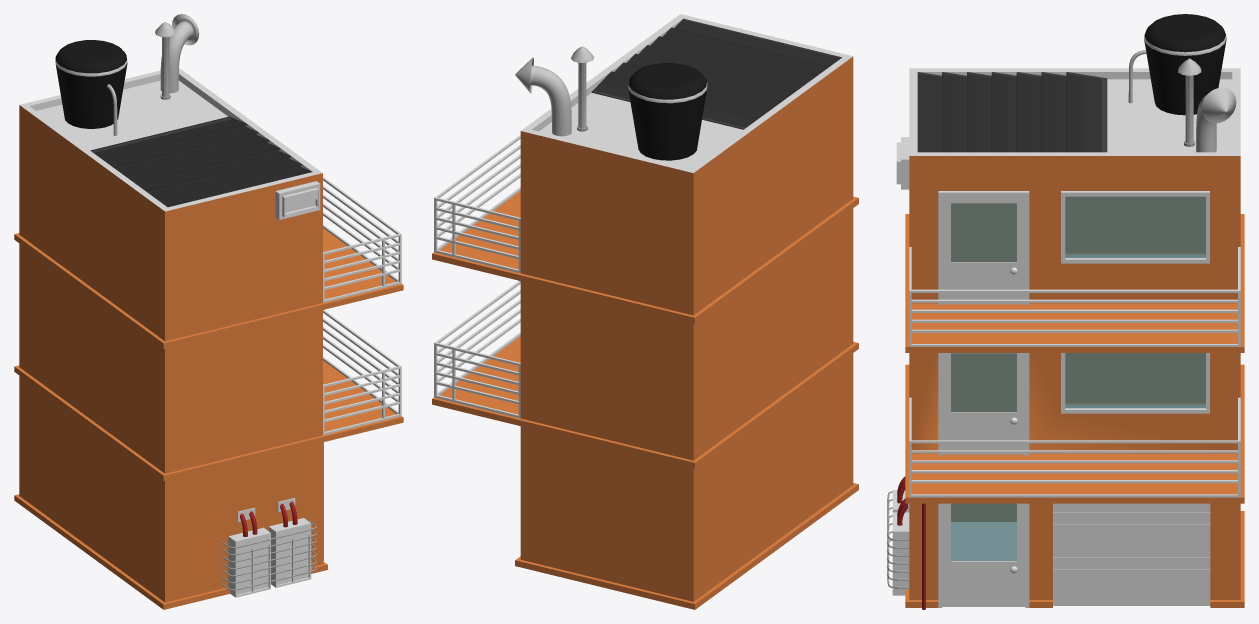
Rendered from House2.fbx.
3 renders of one model, left to right at view 1: azimuth 30°, elevation 25°; view 2: azimuth 150°, elevation 25°; view 3: azimuth 270°, elevation 25°, orthographic. The views are drawn at different scales.
Parts seen in each view (by area): view 1: pCube93, pCube103, pCylinder11, pCube77, polySurface60, polySurface35, pCube76, pCylinder10, pCube64; view 2: pCube93, pCube103, pCylinder11, polySurface35, polySurface60, pCylinder10; view 3: pCube93, pCube72, pCube103, polySurface60, polySurface35, polySurface11, pCube95, pCube83, polySurface13, pCube94, pCylinder11, pCylinder10 (+14 smaller).
Part boxes in pixels (left/top/right/bottom): pCube93: left=14, top=68, right=327, bottom=609; pCube103: left=90, top=116, right=312, bottom=207; pCylinder11: left=55, top=40, right=127, bottom=128; pCube77: left=228, top=507, right=270, bottom=597; polySurface60: left=323, top=360, right=403, bottom=441; polySurface35: left=323, top=228, right=403, bottom=309; pCube76: left=268, top=498, right=311, bottom=587; pCylinder10: left=155, top=14, right=199, bottom=99; pCube64: left=275, top=181, right=320, bottom=219; pCube93: left=515, top=14, right=858, bottom=609; pCube103: left=591, top=18, right=841, bottom=129; pCylinder11: left=628, top=63, right=707, bottom=160; polySurface35: left=432, top=191, right=520, bottom=280; polySurface60: left=432, top=336, right=520, bottom=425; pCylinder10: left=515, top=46, right=594, bottom=136; pCube93: left=905, top=68, right=1244, bottom=607; pCube72: left=1053, top=503, right=1210, bottom=605; pCube103: left=917, top=72, right=1107, bottom=152; polySurface60: left=905, top=453, right=1244, bottom=503; polySurface35: left=905, top=303, right=1244, bottom=352; polySurface11: left=1061, top=191, right=1209, bottom=263; pCube95: left=938, top=191, right=1029, bottom=304; pCube83: left=938, top=503, right=1029, bottom=607; polySurface13: left=1061, top=353, right=1209, bottom=413; pCube94: left=938, top=353, right=1029, bottom=455; pCylinder11: left=1144, top=14, right=1226, bottom=115; pCylinder10: left=1178, top=58, right=1236, bottom=152.
Bounding box in the file's own units: 7.6 × 14.09 × 8.63.
